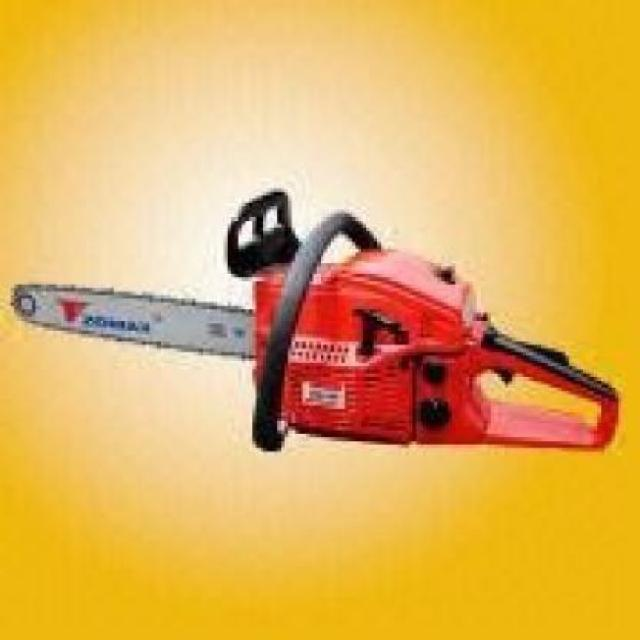Chainsaw: (11, 185, 622, 457)
